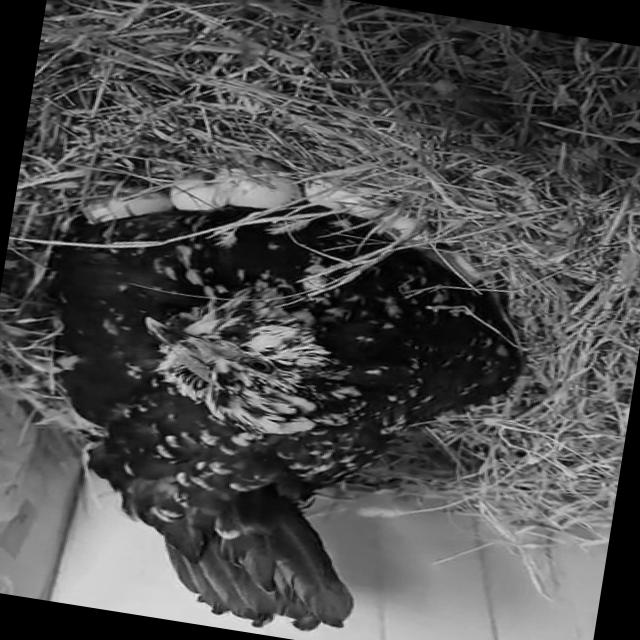crouch chicken: (0, 157, 548, 640)
